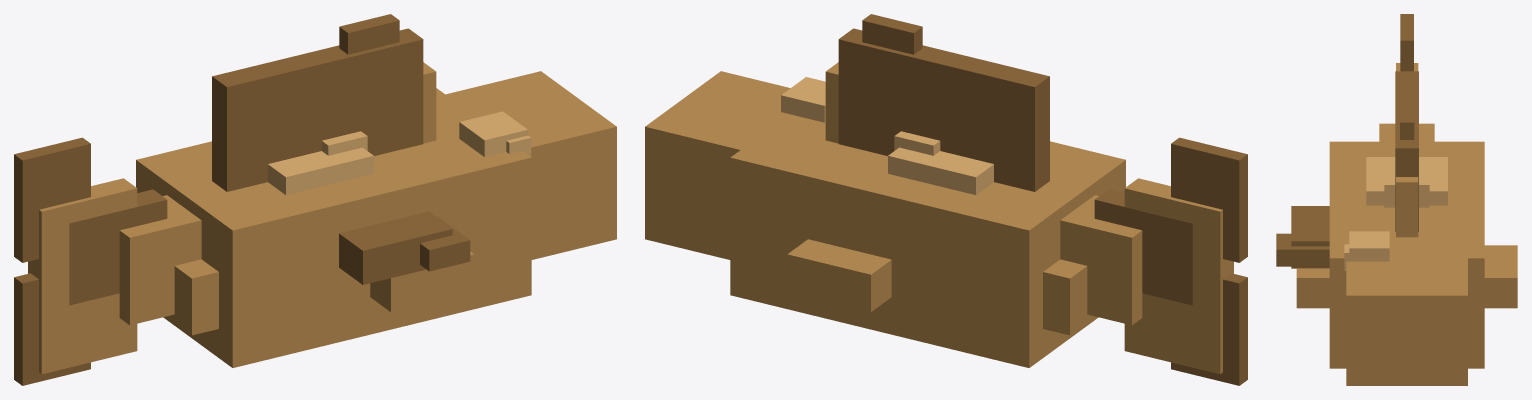
Rendered from fish_quay_mullet.glb.
The picture shows the model from 3 angles, left to right: view 1: azimuth 30°, elevation 25°; view 2: azimuth 150°, elevation 25°; view 3: azimuth 270°, elevation 25°; orthographic projection. The views are drawn at different scales.
Visible parts, largest first — view 1: FishArt_body, FishArt_dorsal, FishArt_tail, FishArt_pectoral, FishArt_specialty, FishArt_eye; view 2: FishArt_body, FishArt_dorsal, FishArt_tail, FishArt_specialty, FishArt_eye; view 3: FishArt_body, FishArt_pectoral, FishArt_specialty, FishArt_dorsal, FishArt_eye, FishArt_tail.
Boxes of the visible parts, box(x1,y1,x2,y2) form: FishArt_body: box(28, 62, 616, 374); FishArt_dorsal: box(212, 14, 423, 191); FishArt_tail: box(14, 137, 167, 385); FishArt_pectoral: box(339, 211, 470, 284); FishArt_specialty: box(268, 131, 373, 194); FishArt_eye: box(459, 111, 531, 156); FishArt_body: box(645, 62, 1233, 374); FishArt_dorsal: box(838, 14, 1049, 191); FishArt_tail: box(1094, 137, 1247, 385); FishArt_specialty: box(888, 131, 993, 194); FishArt_eye: box(781, 77, 825, 122); FishArt_body: box(1296, 63, 1517, 385); FishArt_pectoral: box(1276, 206, 1329, 268); FishArt_specialty: box(1366, 157, 1447, 207); FishArt_dorsal: box(1395, 71, 1418, 231); FishArt_eye: box(1344, 231, 1389, 270); FishArt_tail: box(1400, 14, 1413, 71).
Size of the model in its own units: 0.3091 by 0.1442 by 0.1439.
